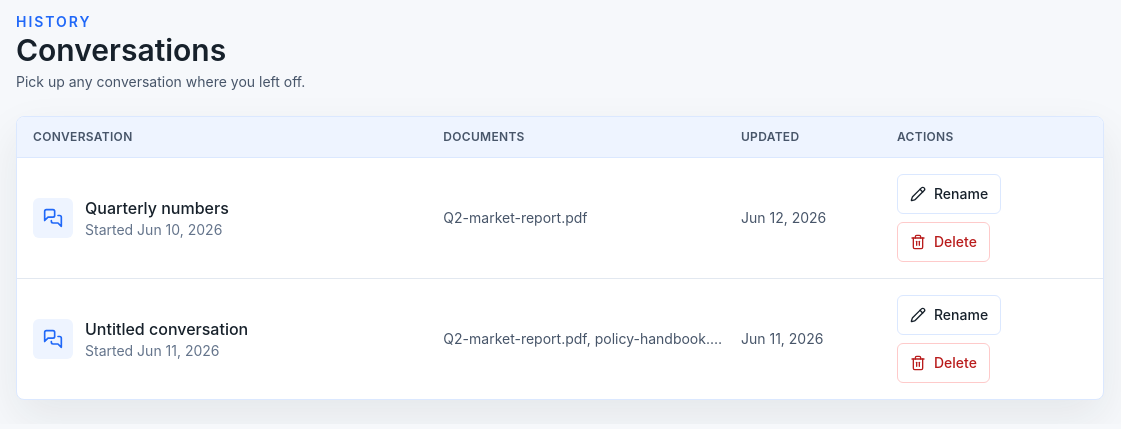
Test: ChatHistory › keeps the conversation when the delete confirm step is cancelled
Step 1. Click the button with aria-label "delete quarterly numbers" → [943, 242], box 897,222 -> 990,262
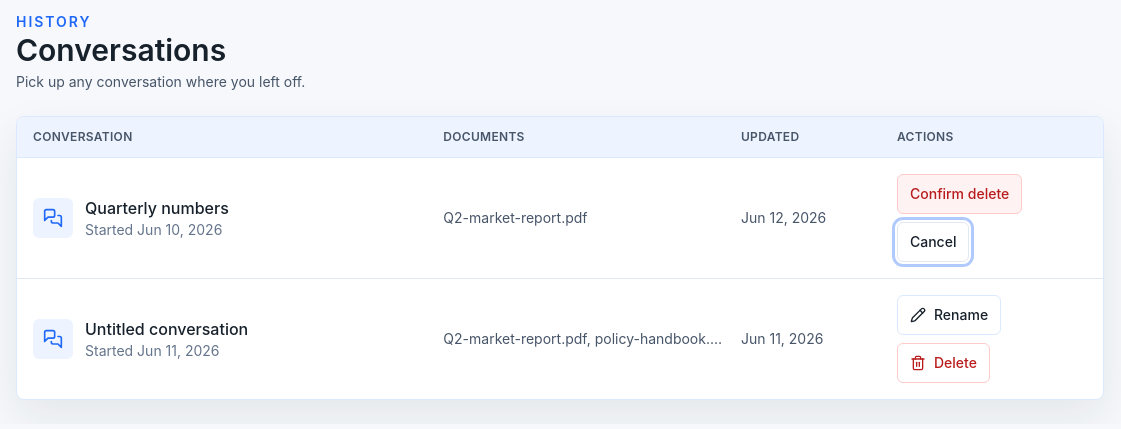
Step 2. Click the button "Cancel" → [933, 242], box 897,222 -> 970,262
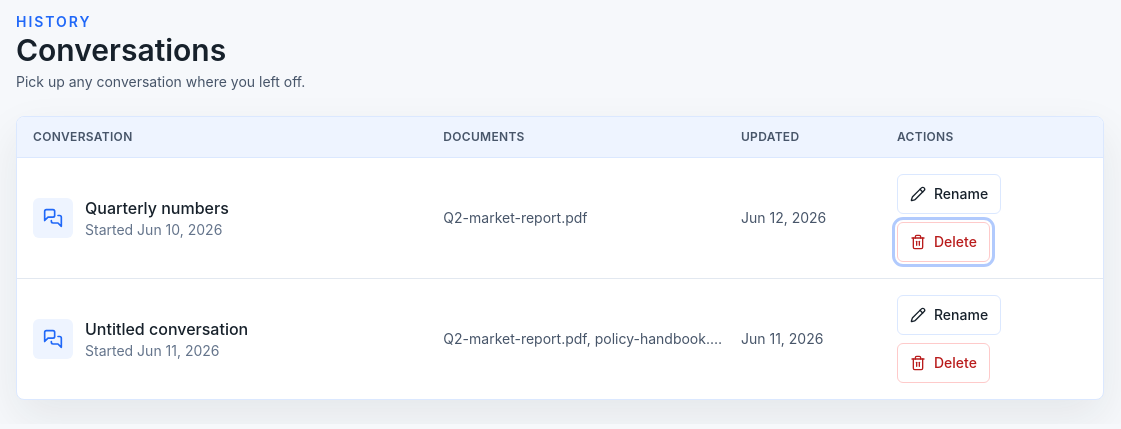
Result: the button "Confirm delete" is gone
